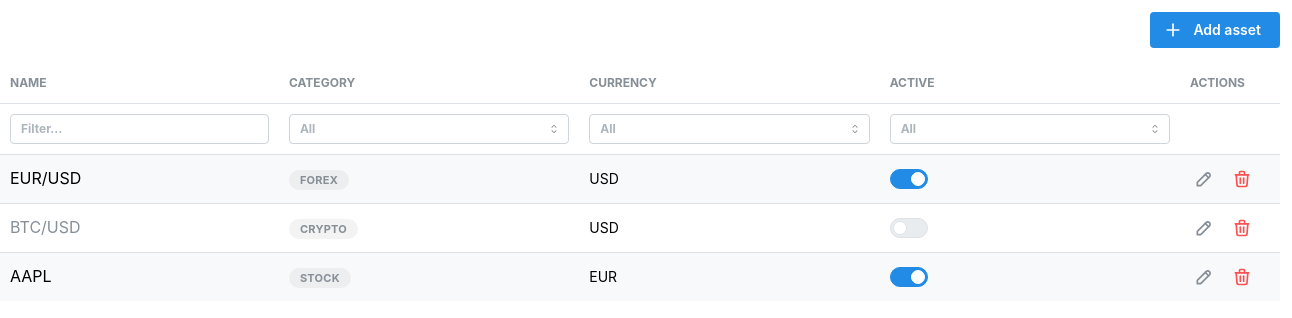
it: AssetsTab › column filters › shows the no-match state when filters eliminate every row
Expected: the text "EUR/USD" is shown, [10,168,81,188]
Type "zzzz" into the field named "Name".
click(139, 129); type("zzzz")  # box [10,114,269,144]
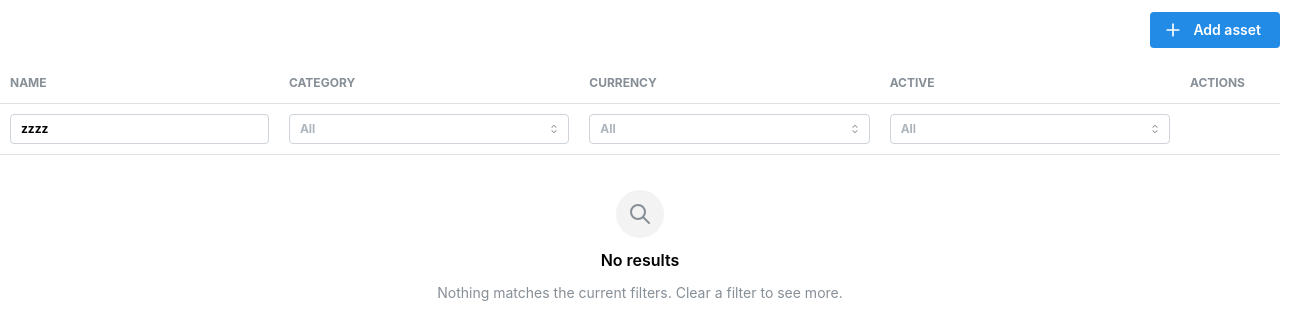
Expected: the text "No results" is shown, [601,248,679,273]
Expected: the text "EUR/USD" is gone
